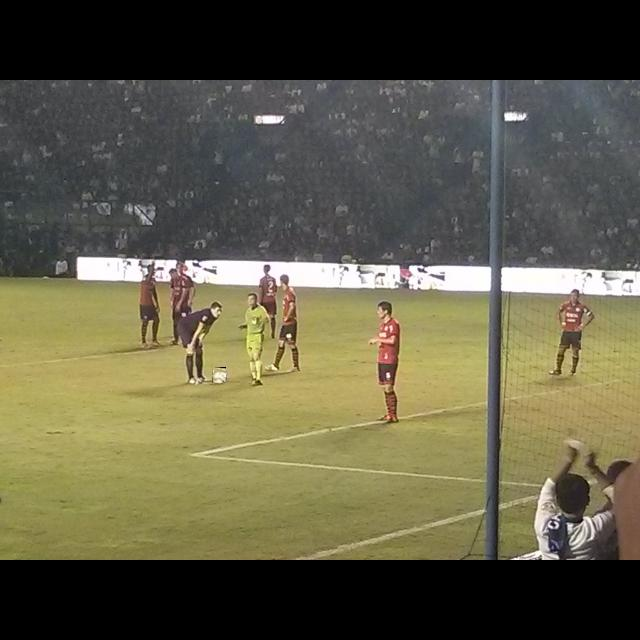Football: (212, 367, 226, 383)
